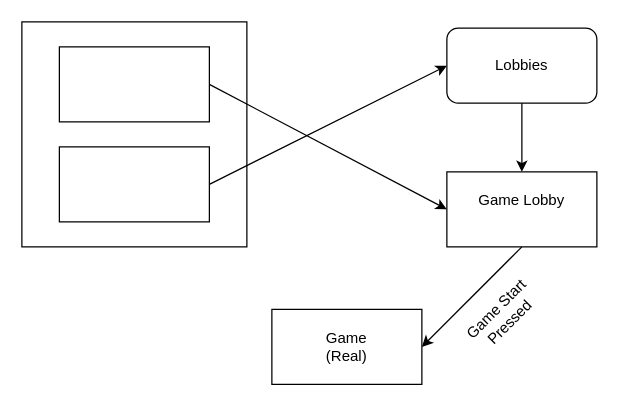
The diagram is 619 pixels wide and 406 high, and some of its shapes have lost their labels. The shapes that lost their labels are listed below. From the top down, each one's box as (x1, y1, x2, y2) in pixels, then its label:
(58, 46, 209, 122): Host
(58, 146, 209, 222): Join
